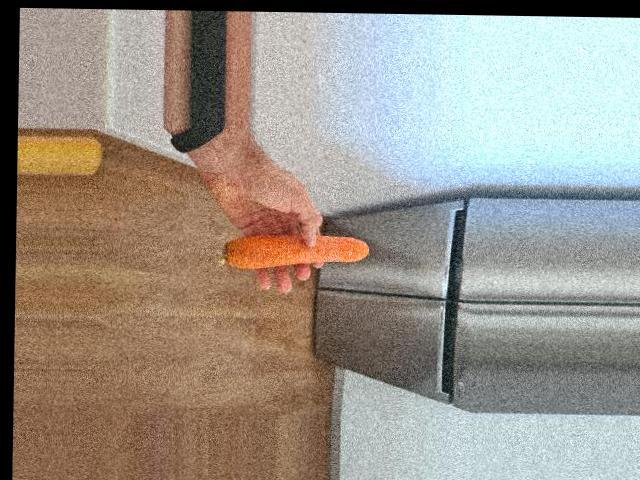carrot: (220, 228, 368, 275)
